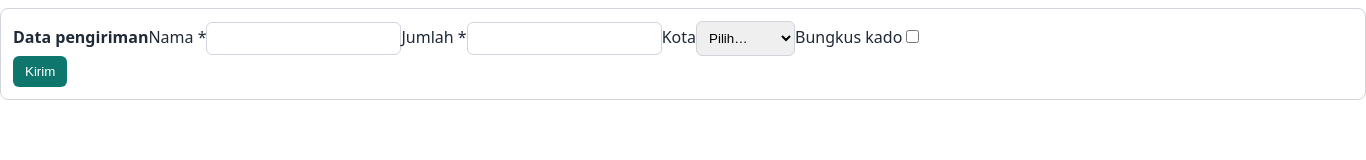
Test case: ChatWidget form › submits the answers and reports the new message
Type "Sari" into the field labelled "Nama *" at (304, 38), box x1=206 y1=22 x2=402 y2=55
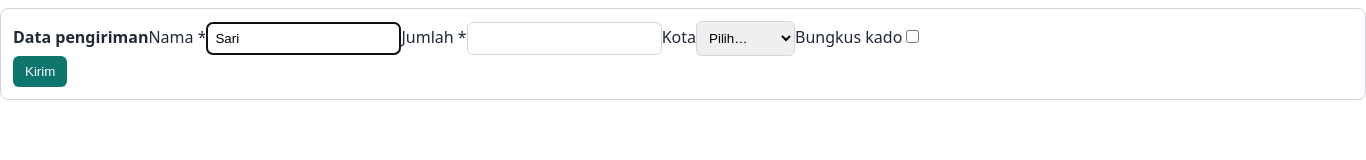
Type "2" into the number field labelled "Jumlah *" at (564, 38), box x1=467 y1=22 x2=662 y2=55
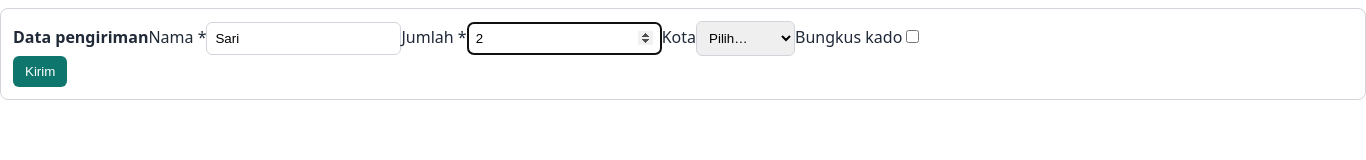
Select "Karawang" in the dropdown labelled "Kota" at (746, 38), box x1=696 y1=21 x2=795 y2=56
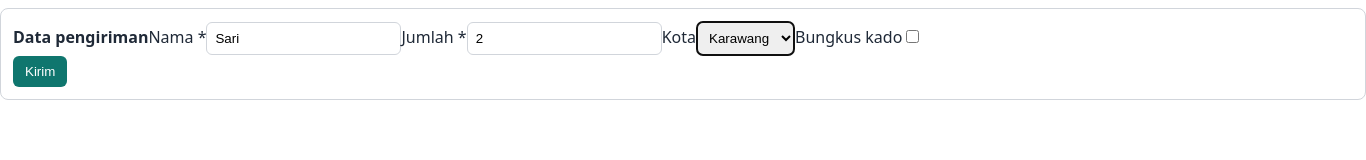
Click the button "Kirim" at (40, 72), box x1=13 y1=56 x2=67 y2=87
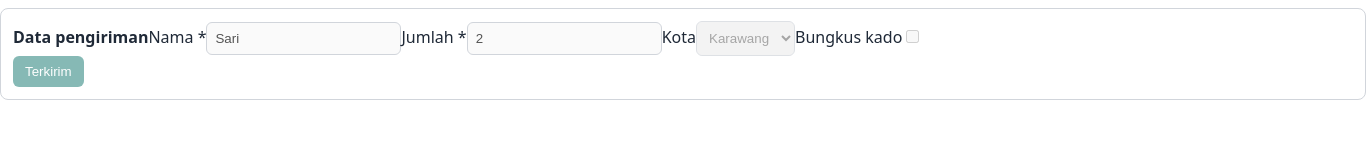
Result: the button "Terkirim" is shown at x1=13 y1=56 x2=84 y2=87
